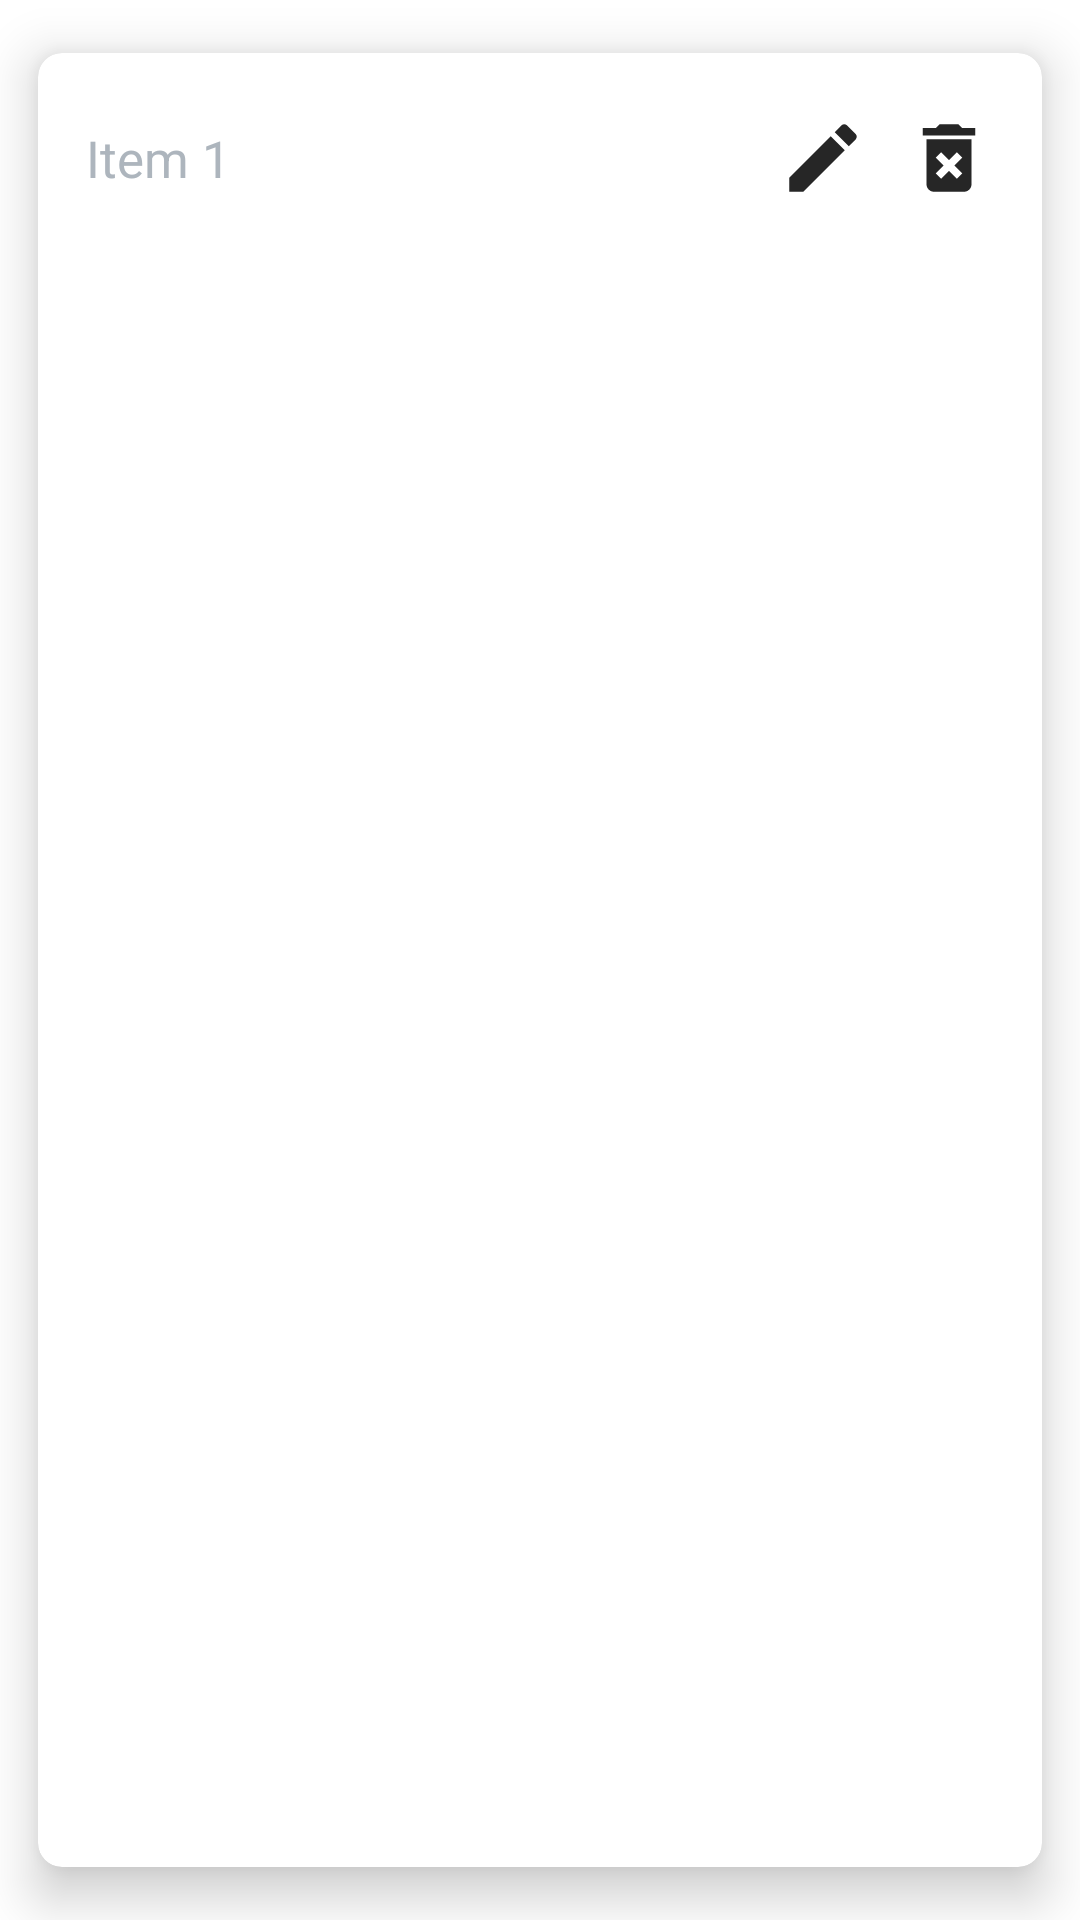

Screen size 1080*1920. Icon name, then its center in pixels as point (x, y):
delete forever: point (949, 158)
edit: point (823, 158)
